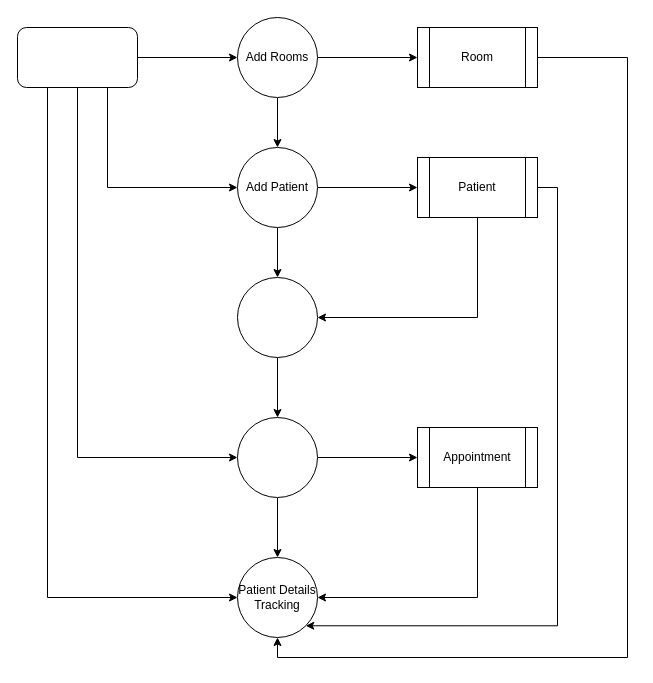
Some shapes in this 653 by 683 pixel diagram are drawn without their labels. The shapes that lost their labels are listed below. From the top down, each one's centre as x and y in pixels, then its label:
At (x=77, y=57): "Nurse".
At (x=277, y=317): "Patient Details".
At (x=277, y=457): "Admit / Appointment".
